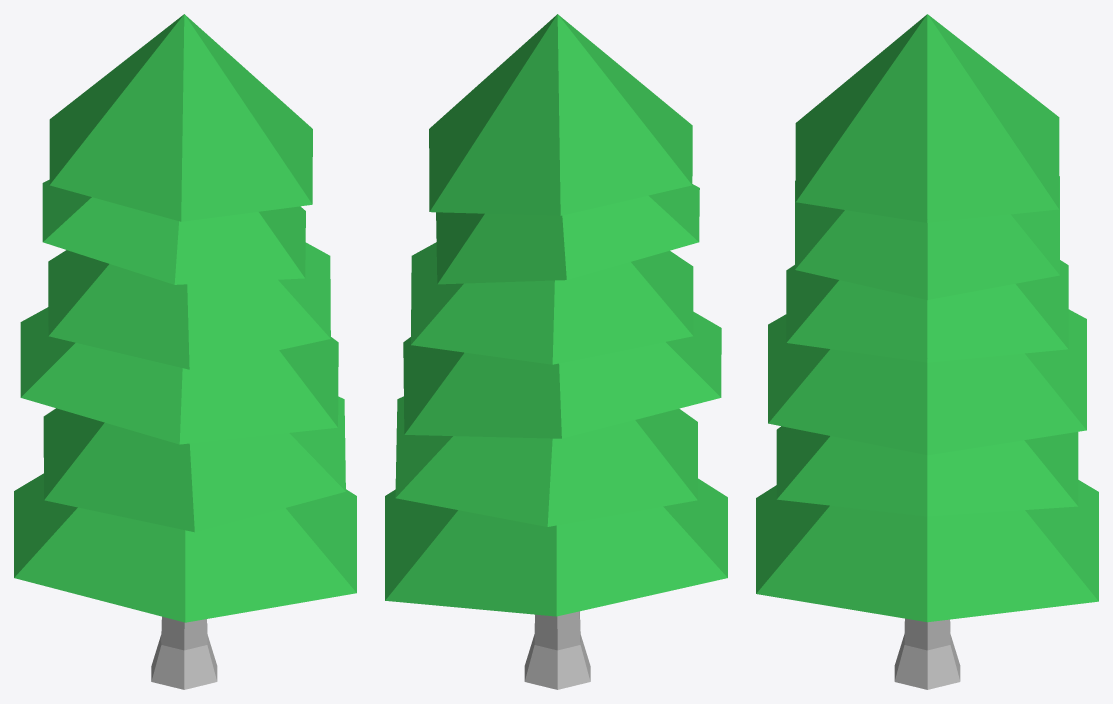
File: fir_summer_1.fbx
3 renders of one model, left to right at view 1: azimuth 30°, elevation 25°; view 2: azimuth 150°, elevation 25°; view 3: azimuth 270°, elevation 25°, orthographic.
Visible parts, largest first — view 1: fir.005; view 2: fir.005; view 3: fir.005.
Boxes of the visible parts, x1,y1,x2,y2 form: fir.005: [14, 14, 356, 689]; fir.005: [385, 14, 727, 689]; fir.005: [756, 14, 1098, 689].
Bounding box in the file's own units: 9.97 × 18.33 × 8.63.
